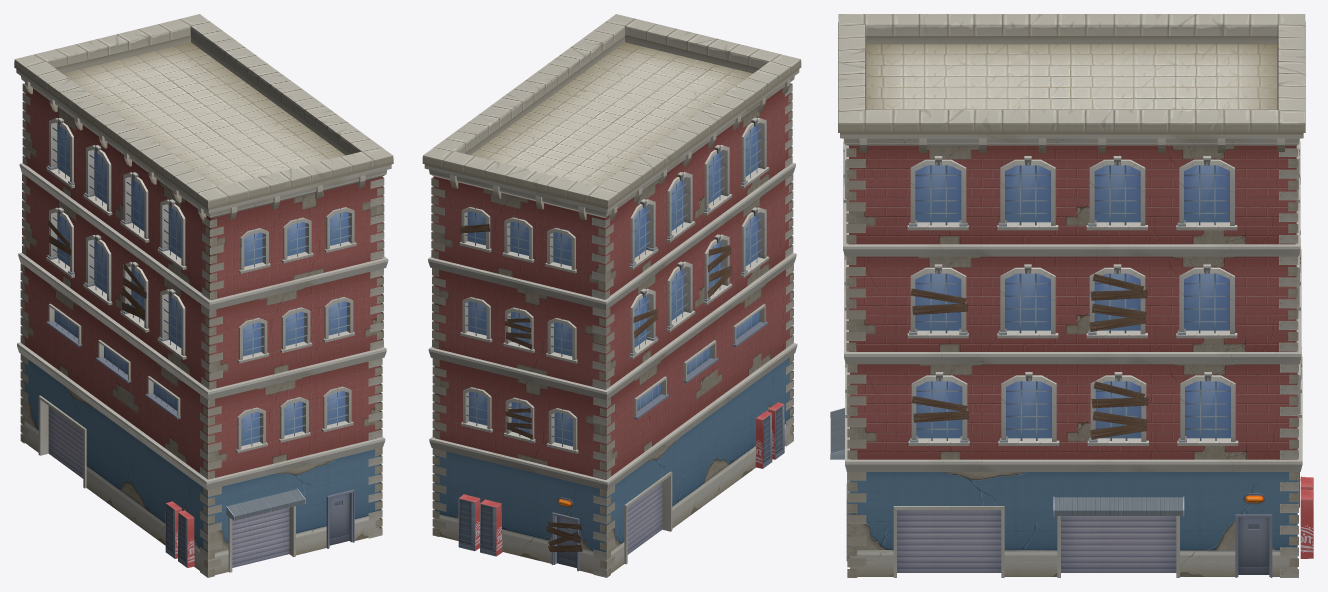
The model's file is Building_03_2_LOD2.fbx.
3 renders of one model, left to right at view 1: azimuth 30°, elevation 25°; view 2: azimuth 150°, elevation 25°; view 3: azimuth 270°, elevation 25°, orthographic. The views are drawn at different scales.
Parts seen in each view (by area): view 1: polySurface4117; view 2: polySurface4117; view 3: polySurface4117.
Boxes of the visible parts, x1=… form: polySurface4117: x1=14, y1=14, x2=393, y2=577; polySurface4117: x1=422, y1=14, x2=801, y2=577; polySurface4117: x1=830, y1=14, x2=1313, y2=577.
Size of the model in its own units: 762 by 1444 by 1374.
